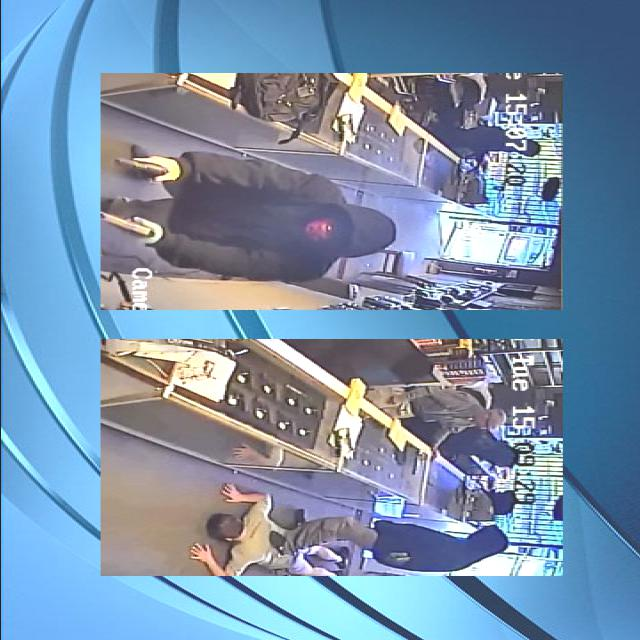handgun: (64, 205, 178, 247), (88, 139, 178, 176)
